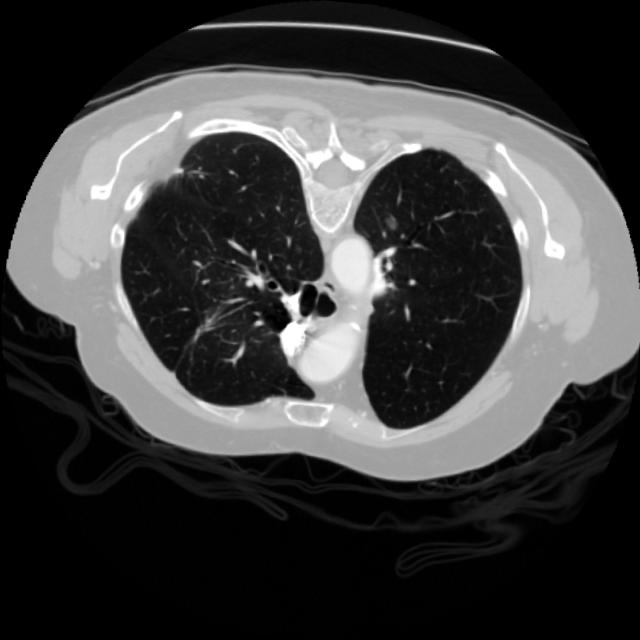nodule: (374, 208, 404, 238)
